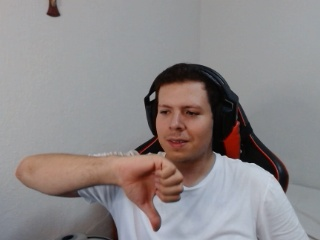Atras: (112, 149, 186, 235)
